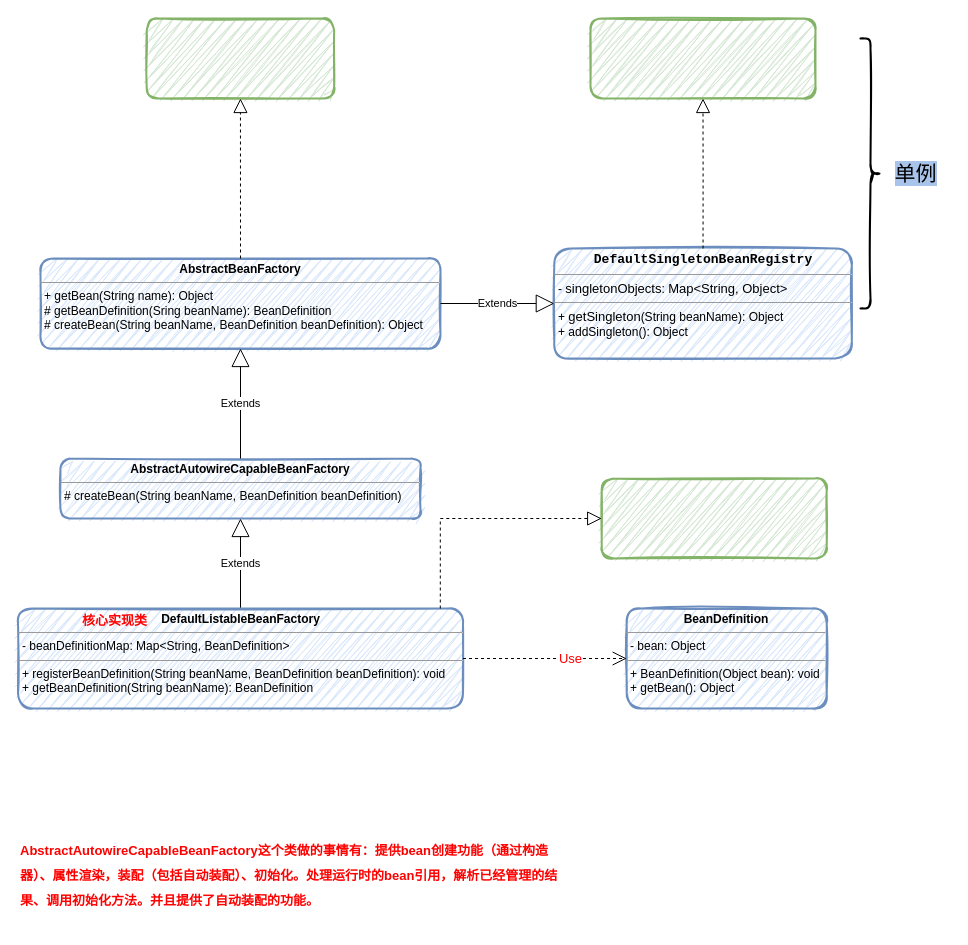
This 968x945 diagram has some shape labels left out. Each missing label, with the centre of its shape:
<<Interface>> BeanDefinitionRegistry + getSingleton(String name): Object: the point at 713,518
<<Interface>> BeanFactory + getBean(String name): Object: the point at 240,58
<<Interface>> SingletonBeanRegistry + getSingleton(String name): Object: the point at 702,58
